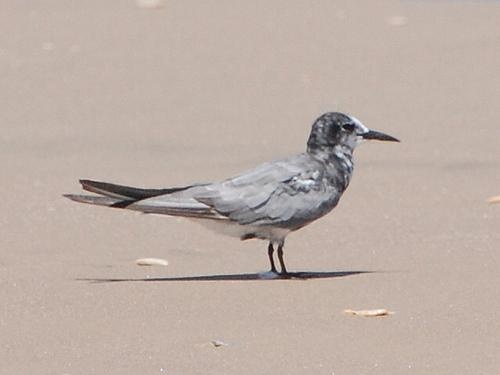bird: (60, 110, 400, 281)
